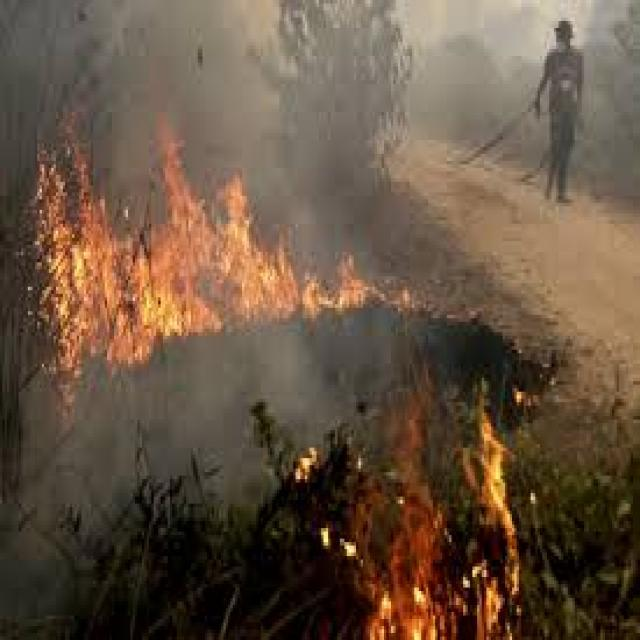Fire: (44, 142, 390, 368), (336, 417, 518, 640)
Smoke: (0, 0, 389, 629)
